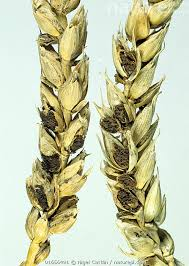Wheat Loose Smut: (93, 23, 186, 257), (23, 16, 89, 250)
